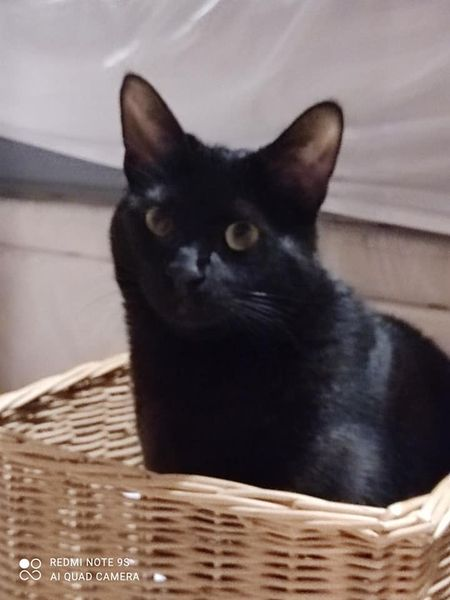cat: (98, 56, 440, 514)
